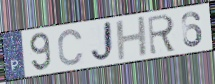6: (180, 10, 204, 49)
9: (29, 31, 53, 72)
C: (57, 28, 86, 67)
H: (114, 14, 150, 63)
J: (89, 20, 116, 65)
R: (147, 12, 178, 56)
